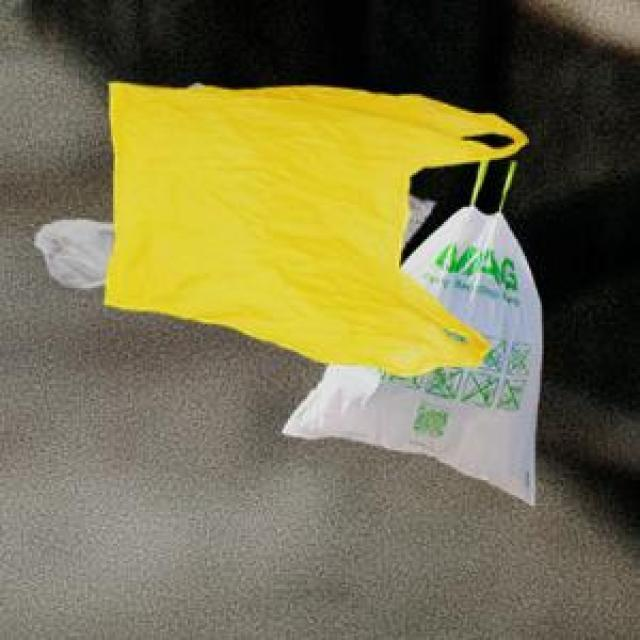waste: (35, 84, 542, 503), (106, 86, 541, 503)
